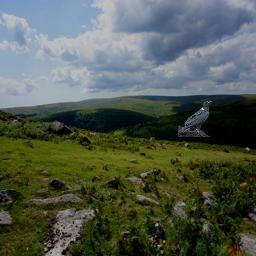Crow: (178, 100, 212, 137)
